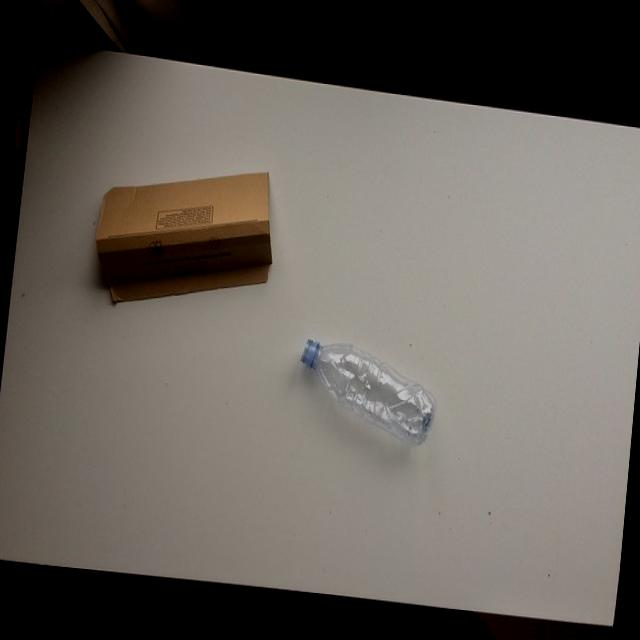Recycle: (77, 170, 325, 342), (288, 320, 454, 456)
